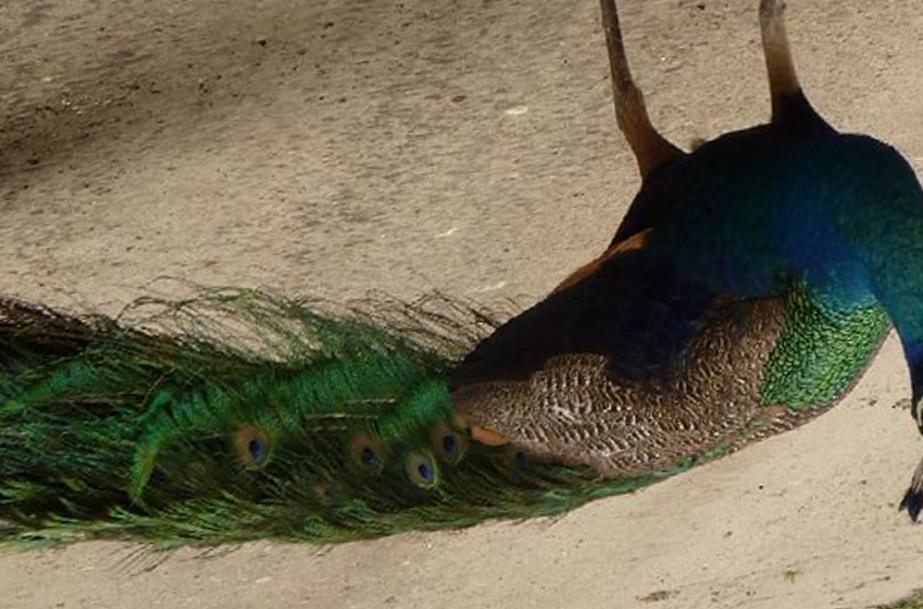peacock: (18, 67, 920, 591)
